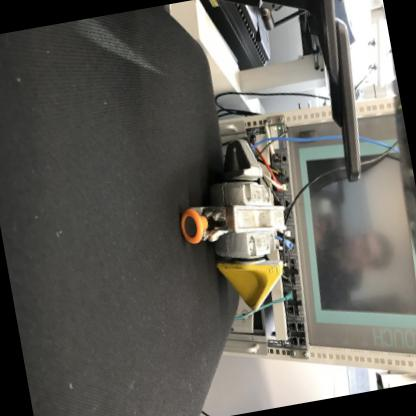Twistlock: (163, 128, 308, 333)
